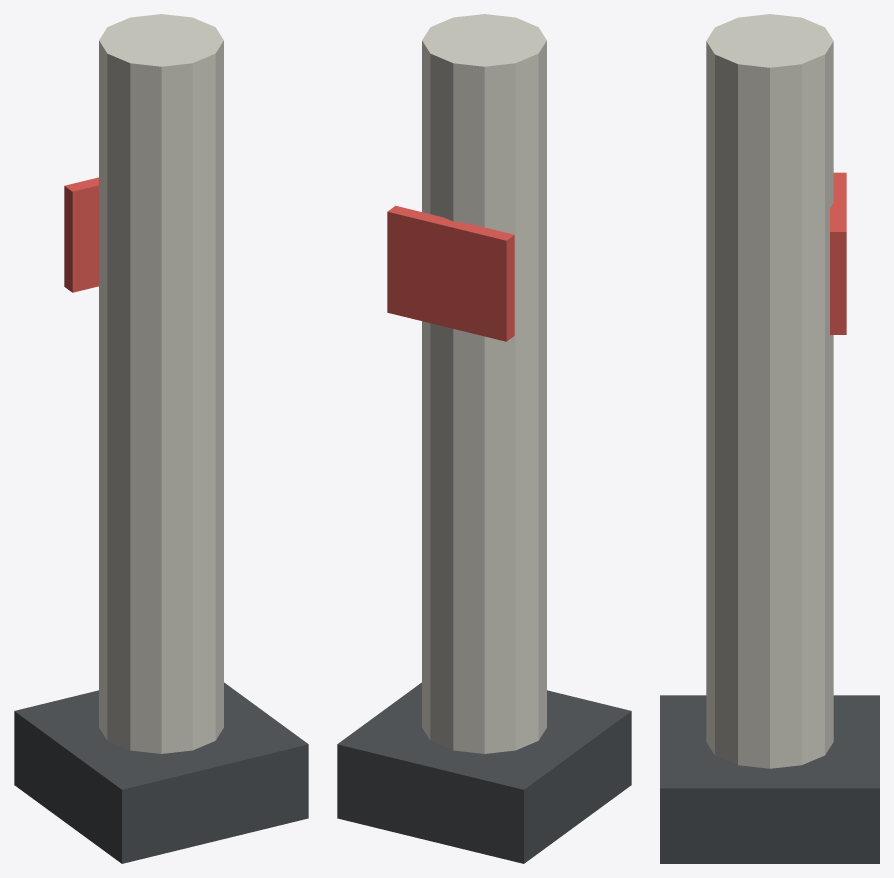
The model's file is roadside_bollard.gltf.
3 views of the same model, side by side, from view 1: azimuth 30°, elevation 25°; view 2: azimuth 150°, elevation 25°; view 3: azimuth 270°, elevation 25° (orthographic). The views are drawn at different scales.
Visible parts, largest first — view 1: Post, Foot, Reflector; view 2: Post, Foot, Reflector; view 3: Post, Foot, Reflector.
Boxes of the visible parts, <box> form: Post: <box>99,14,223,753</box>; Foot: <box>14,682,308,863</box>; Reflector: <box>64,177,98,292</box>; Post: <box>422,14,546,753</box>; Foot: <box>337,682,631,863</box>; Reflector: <box>387,205,514,341</box>; Post: <box>706,14,833,768</box>; Foot: <box>660,695,879,863</box>; Reflector: <box>830,172,846,334</box>.
Bounding box in the file's own units: 0.29 × 1.13 × 0.29.
